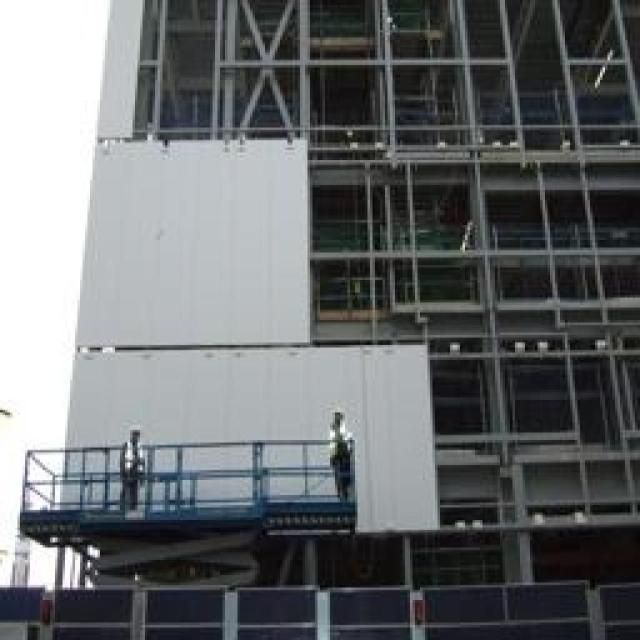Helmet: (120, 422, 152, 446), (325, 404, 350, 430)
Safety Vest: (318, 425, 366, 472), (109, 441, 153, 485)
